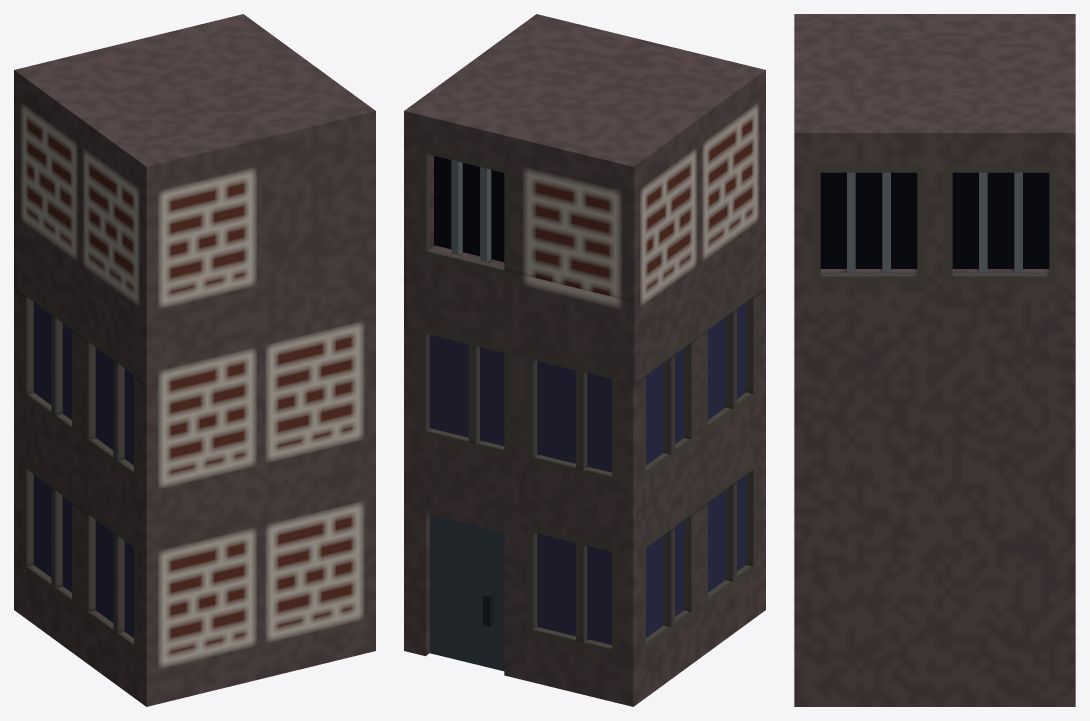
The picture shows the model from 3 angles, left to right: view 1: azimuth 30°, elevation 25°; view 2: azimuth 150°, elevation 25°; view 3: azimuth 270°, elevation 25°; orthographic projection. The views are drawn at different scales.
Parts seen in each view (by area): view 1: Content; view 2: Content; view 3: Content.
Boxes of the visible parts, left/top/right/bottom form: Content: left=14, top=14, right=375, bottom=706; Content: left=404, top=14, right=765, bottom=706; Content: left=794, top=14, right=1075, bottom=706.
Size of the model in its own units: 32 by 72 by 32.
Materials: 1 (1 with a texture image).
